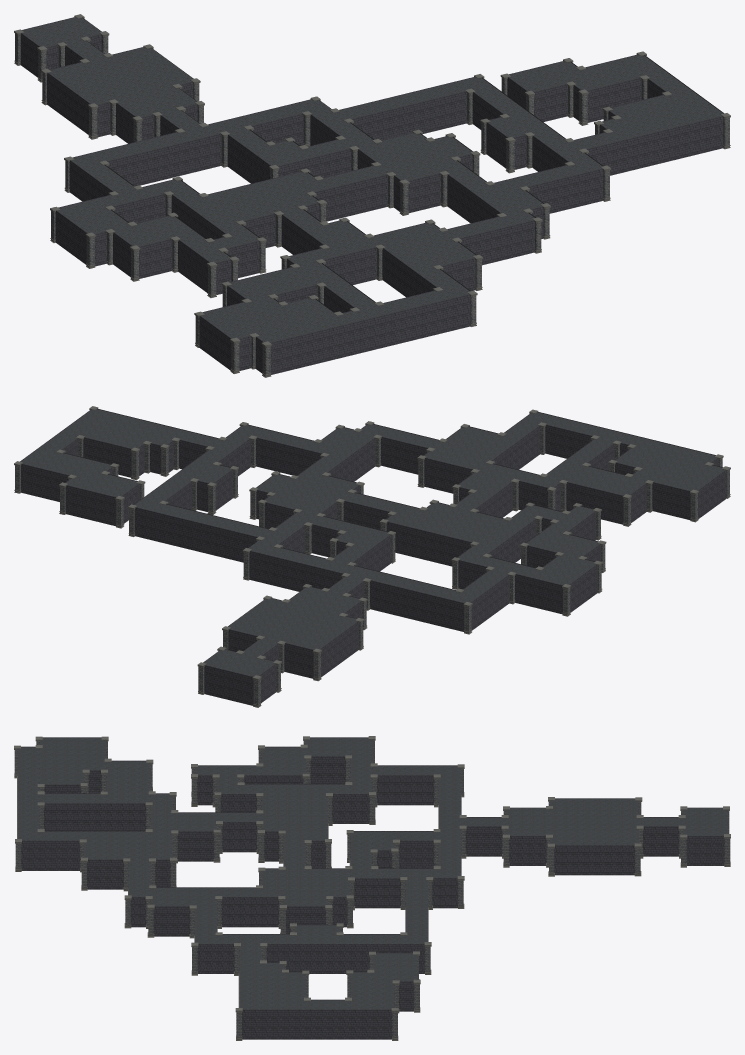
The model's file is level.FBX.
The picture shows the model from 3 angles, top to bottom: view 1: azimuth 30°, elevation 25°; view 2: azimuth 150°, elevation 25°; view 3: azimuth 270°, elevation 25°; orthographic projection. The views are drawn at different scales.
Visible parts, largest first — view 1: pillar_LP018, stoneFloor1_LP1104; view 2: pillar_LP018, stoneFloor1_LP1104; view 3: pillar_LP018, stoneFloor1_LP1104.
Boxes of the visible parts, bbox=[...] form: pillar_LP018: bbox=[14, 14, 730, 377]; stoneFloor1_LP1104: bbox=[21, 17, 722, 342]; pillar_LP018: bbox=[14, 406, 730, 707]; stoneFloor1_LP1104: bbox=[21, 409, 725, 676]; pillar_LP018: bbox=[14, 736, 730, 1040]; stoneFloor1_LP1104: bbox=[17, 737, 727, 1009].
Size of the model in its own units: 5858 by 300 by 6463.
4 materials, 4 textured.
